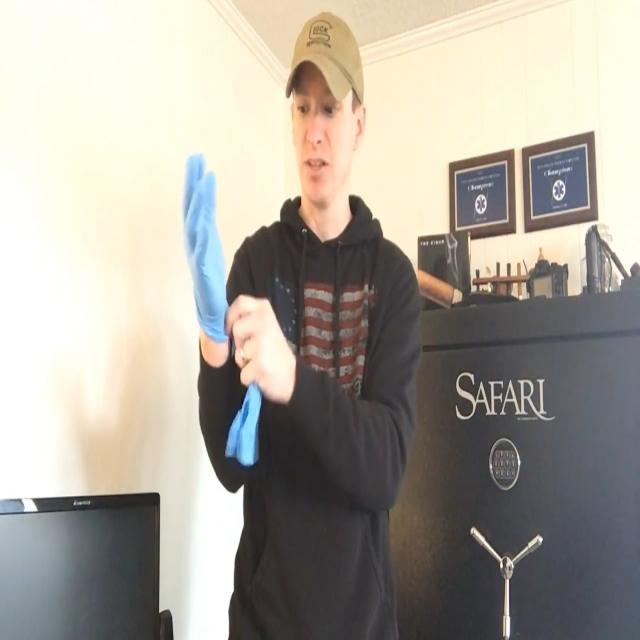Gloves: (179, 139, 237, 359)
